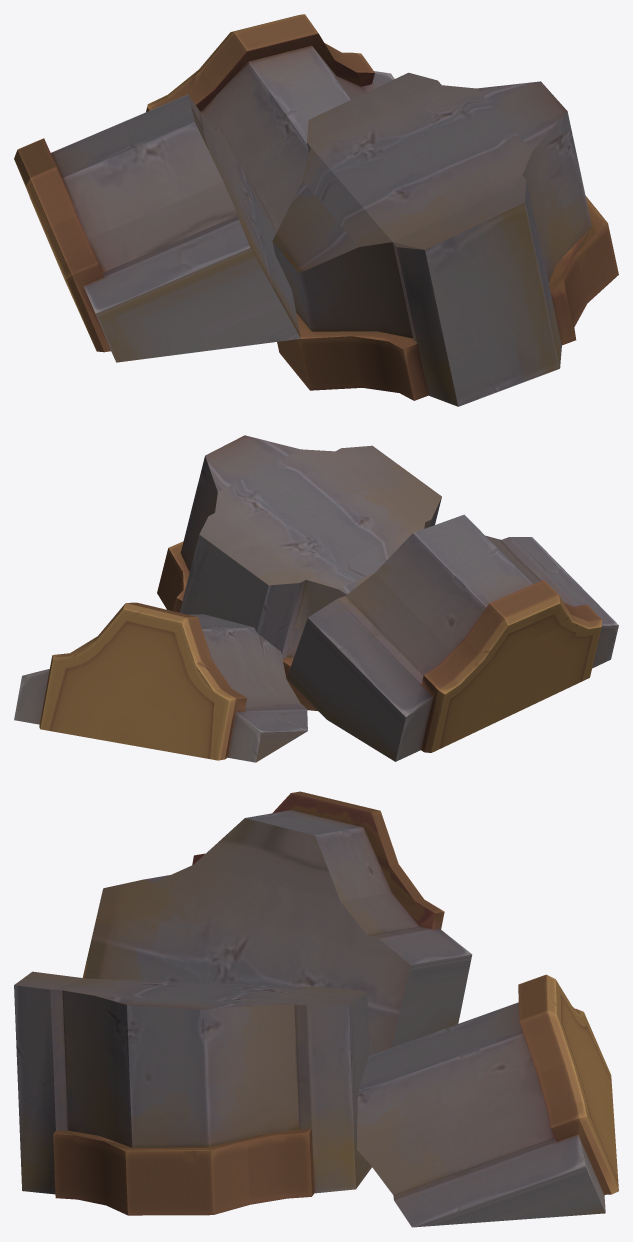
File: prop_BridgePillar_Broken.fbx
3 views of the same model, one above another, from view 1: azimuth 30°, elevation 25°; view 2: azimuth 150°, elevation 25°; view 3: azimuth 270°, elevation 25° (orthographic). The views are drawn at different scales.
Parts seen in each view (by area): view 1: prop_BridgePillar_Broken_cell.002, prop_BridgePillar_Broken_cell.003, prop_BridgePillar_Broken_cell.001; view 2: prop_BridgePillar_Broken_cell.003, prop_BridgePillar_Broken_cell.002, prop_BridgePillar_Broken_cell.001; view 3: prop_BridgePillar_Broken_cell.002, prop_BridgePillar_Broken_cell.003, prop_BridgePillar_Broken_cell.001.
Part boxes in pixels (x1,y1,x2,y2): prop_BridgePillar_Broken_cell.002: (272,72,618,406); prop_BridgePillar_Broken_cell.003: (14,94,300,362); prop_BridgePillar_Broken_cell.001: (146,14,394,231); prop_BridgePillar_Broken_cell.003: (286,514,618,761); prop_BridgePillar_Broken_cell.002: (157,435,441,710); prop_BridgePillar_Broken_cell.001: (14,602,307,762); prop_BridgePillar_Broken_cell.002: (14,971,371,1215); prop_BridgePillar_Broken_cell.003: (82,791,472,1055); prop_BridgePillar_Broken_cell.001: (356,974,618,1227).
Size of the model in its own units: 142 by 69.52 by 137.
